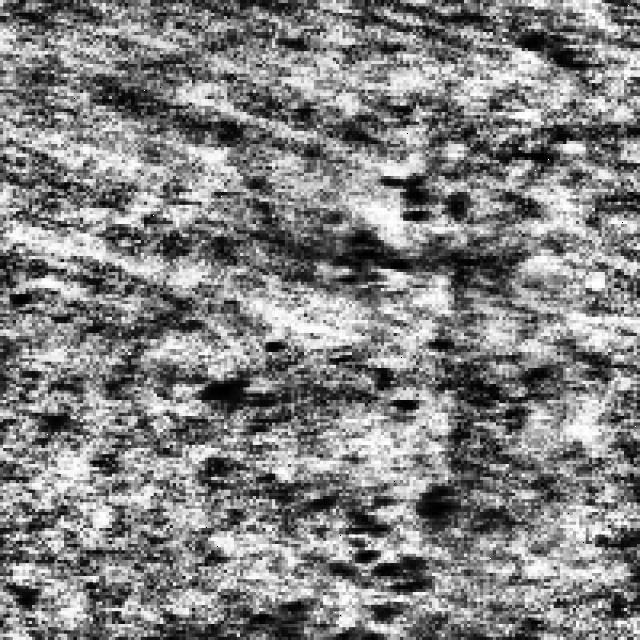Crazing: (342, 125, 570, 397), (237, 454, 464, 637)
